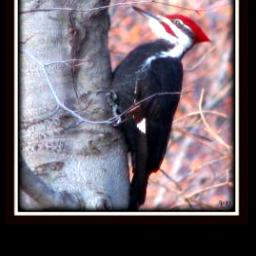Woodpecker: (96, 5, 213, 211)
